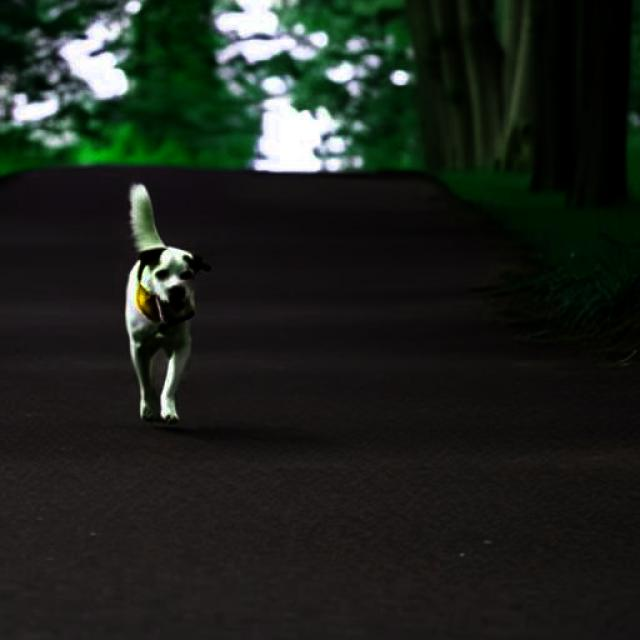Dog: (125, 180, 212, 425)
